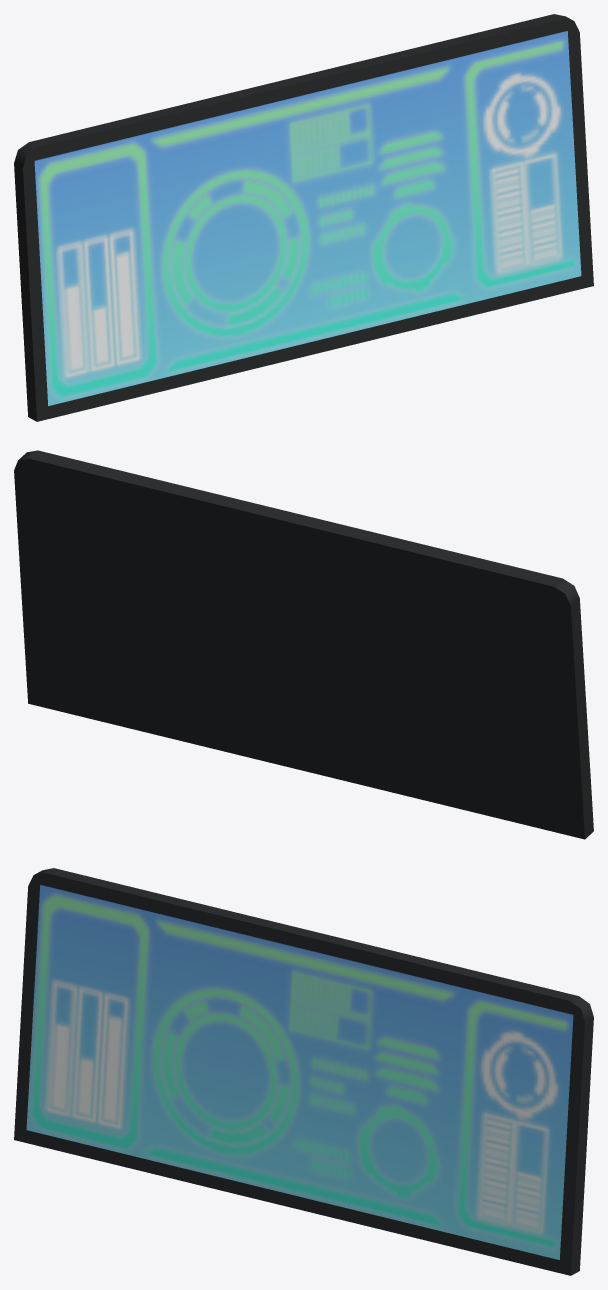
File: Terminal_002_Monitor_001.fbx
The picture shows the model from 3 angles, top to bottom: view 1: azimuth 30°, elevation 25°; view 2: azimuth 150°, elevation 25°; view 3: azimuth 330°, elevation 25°; orthographic projection.
Visible parts, largest first — view 1: Terminal_002_Monitor_001; view 2: Terminal_002_Monitor_001; view 3: Terminal_002_Monitor_001.
Boxes of the visible parts, x1,y1,x2,y2 form: Terminal_002_Monitor_001: [14, 14, 593, 421]; Terminal_002_Monitor_001: [14, 450, 593, 839]; Terminal_002_Monitor_001: [14, 868, 593, 1275].
Size of the model in its own units: 96.98 by 7.25 by 43.54.
